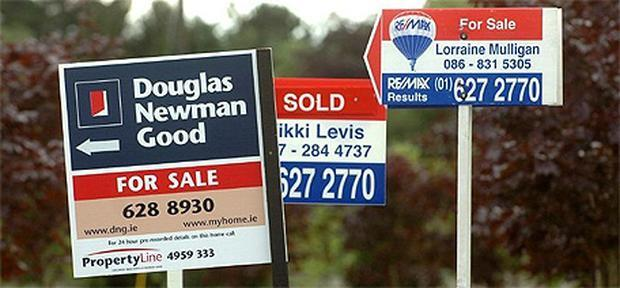property sign: (32, 42, 283, 285), (357, 6, 581, 126), (272, 72, 391, 216)
